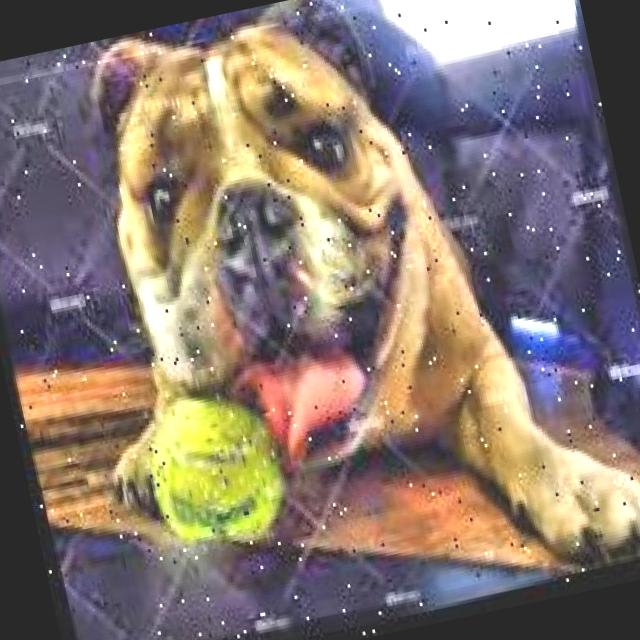tennis-ball: (128, 379, 298, 569)
